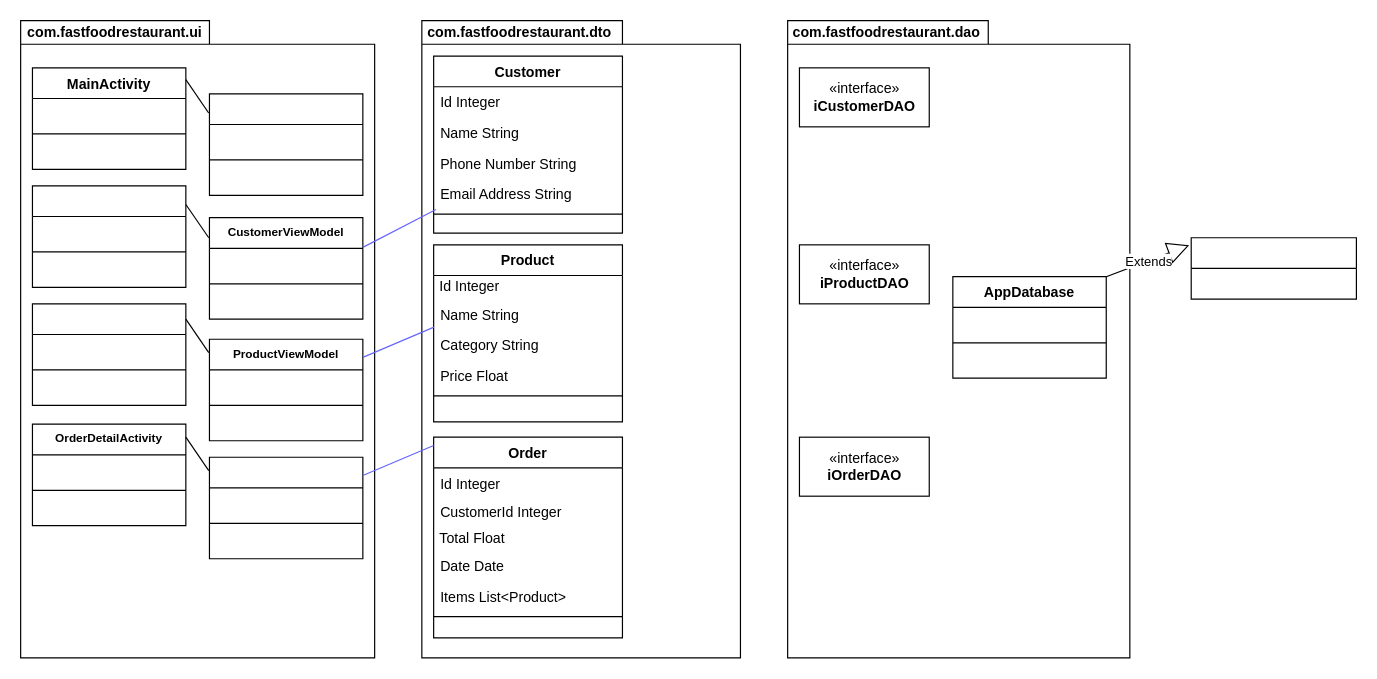
Some shapes in this 1377 by 679 pixel diagram are drawn without their labels. The centre of each missing label's shape, as x and y in pixels:
"CustomerDetailActivity" belongs at pixel 108 236.
"MainViewModel" belongs at pixel 285 144.
"OrderViewModel" belongs at pixel 285 507.
"ProductDetailActivity" belongs at pixel 108 354.
"Roomdatabase" belongs at pixel 1273 268.
